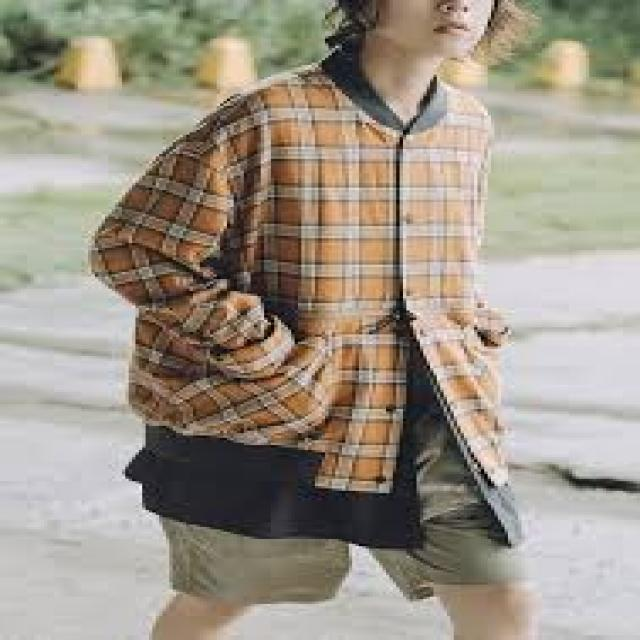plaid: (76, 61, 517, 500)
